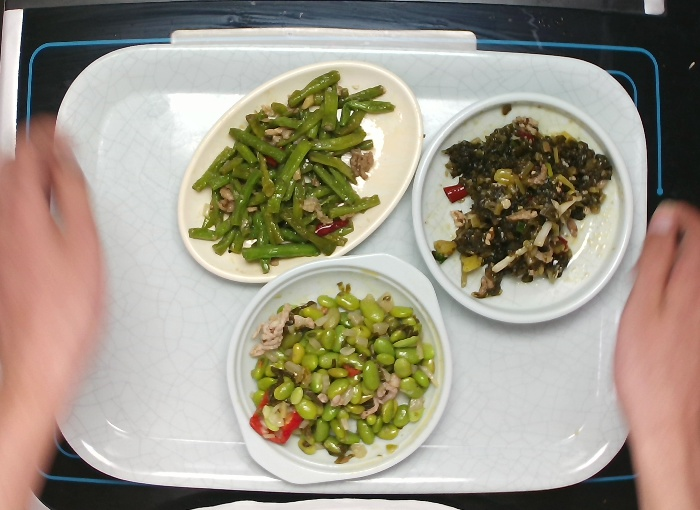JYsf-Shuang_Er_Pan: (223, 243, 455, 490)
JYsf-Tuo_Yuan_Wan: (172, 55, 429, 286)
JYsf-Xiao_Yuan_Pan: (398, 89, 639, 328)
